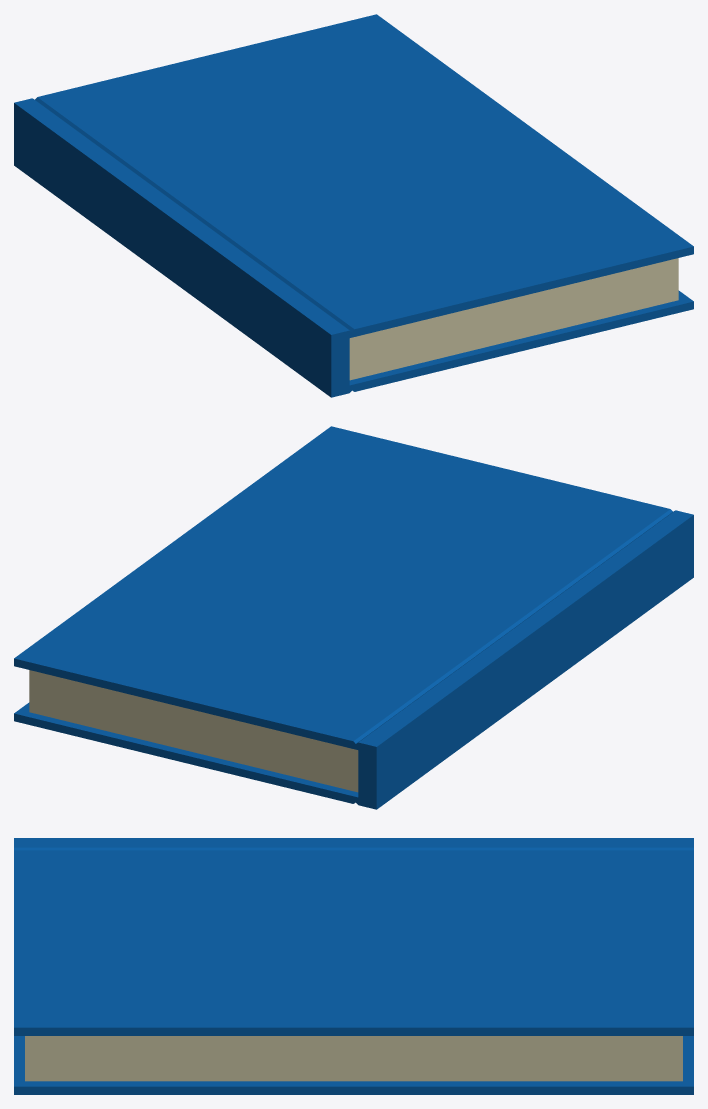
The model's file is Book_Medical_mat.fbx.
3 renders of one model, top to bottom at view 1: azimuth 30°, elevation 25°; view 2: azimuth 150°, elevation 25°; view 3: azimuth 270°, elevation 25°, orthographic. The views are drawn at different scales.
Visible parts, largest first — view 1: Book_Medical_mat; view 2: Book_Medical_mat; view 3: Book_Medical_mat.
Part boxes in pixels (x1,y1,x2,y2): Book_Medical_mat: (14,14,693,397); Book_Medical_mat: (14,426,693,809); Book_Medical_mat: (14,838,693,1094).
Bounding box in the file's own units: 11.52 × 1.91 × 17.45.
